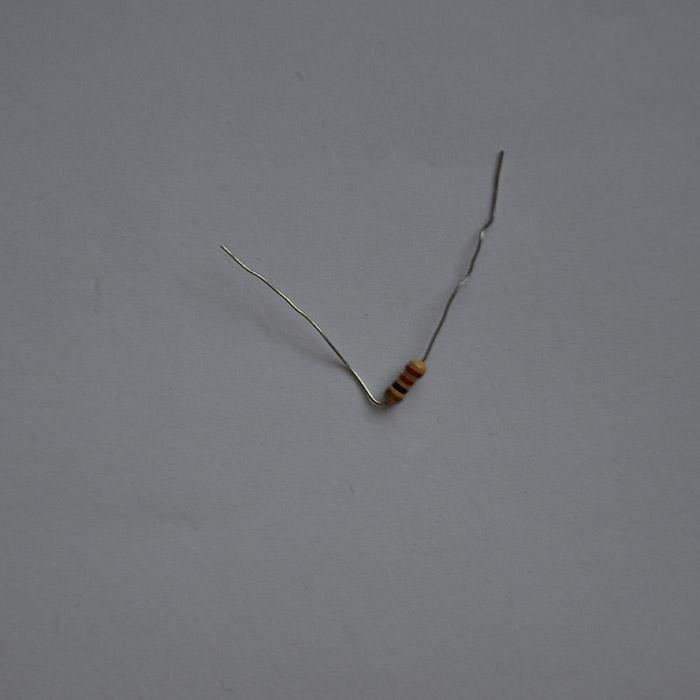resistor: (383, 357, 428, 406)
